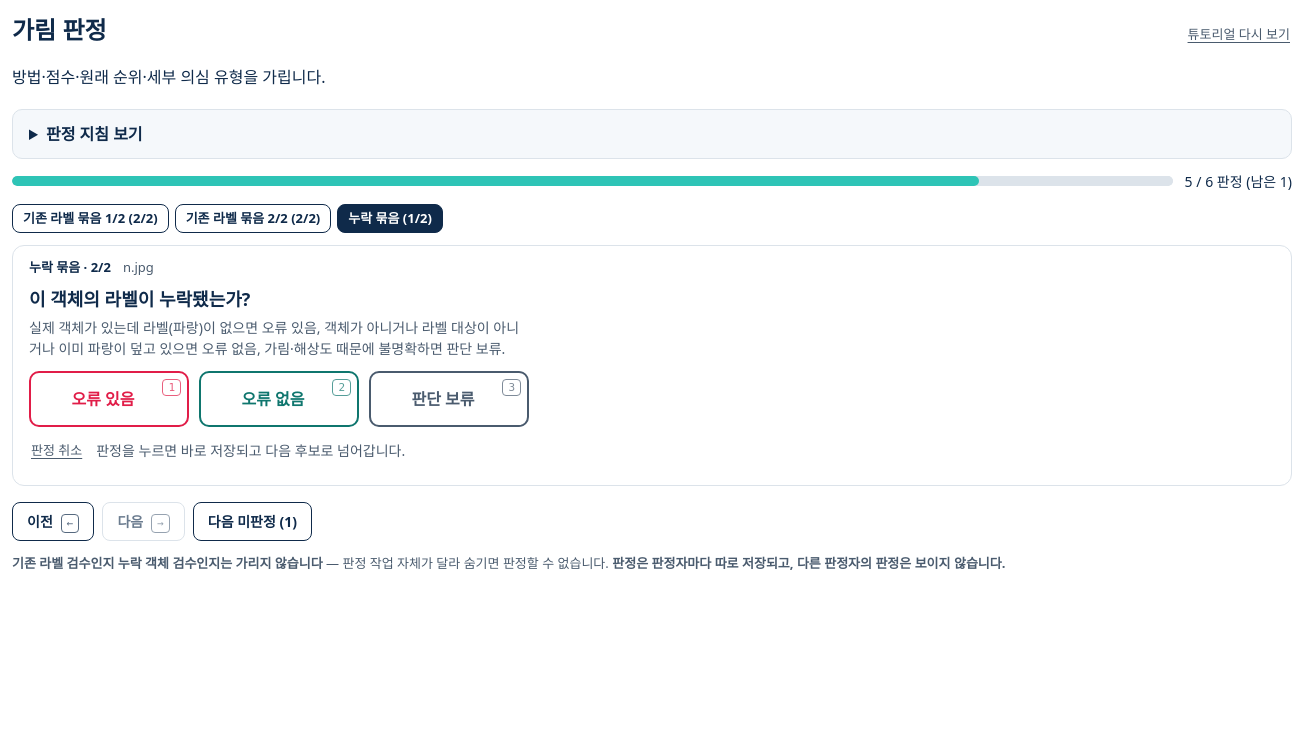
Test: 묶음 경계 › 마지막 묶음을 마치면 기존 완료 화면이 뜬다
Check: the text "n.jpg" is shown, box [123,258,154,278]
Click the button "오류 없음": (279, 398) [199,370,359,426]
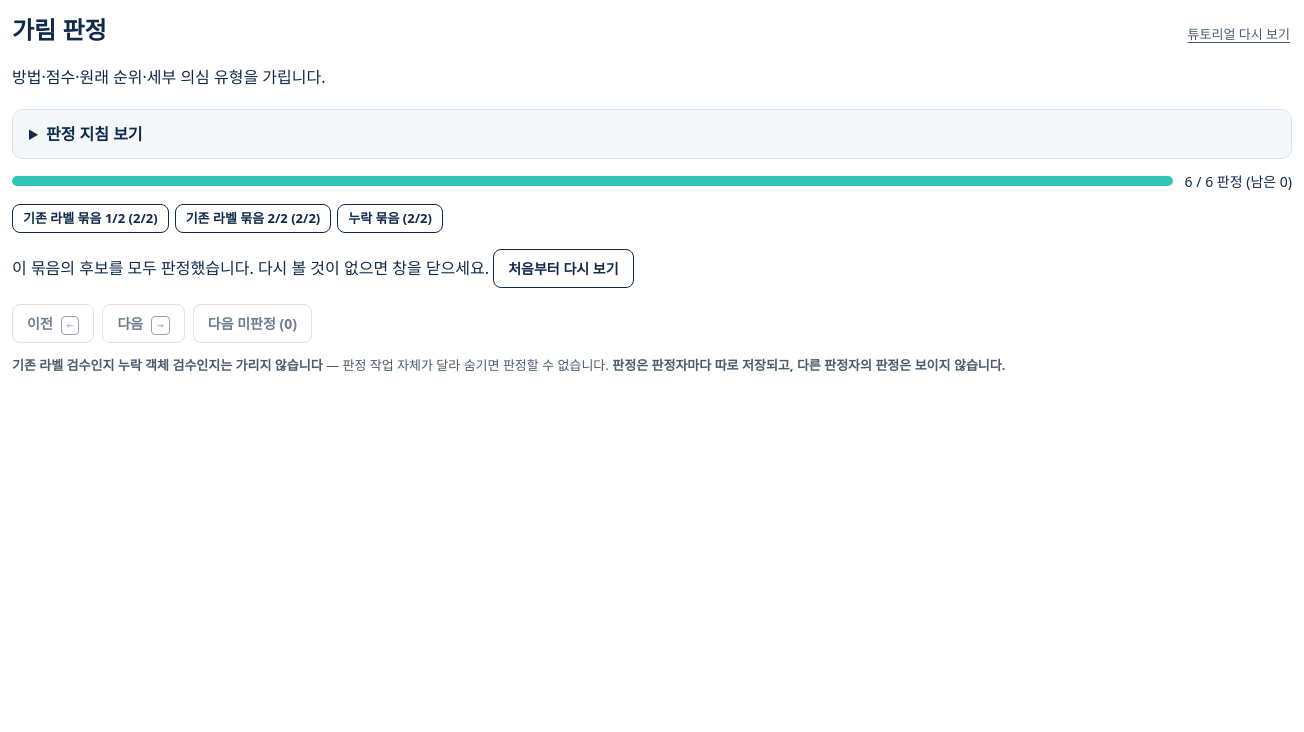
Check: the text "이 묶음의 후보를 모두 판정했습니다. 다시 볼 것이 없으면 창을 닫으세요. 처음부터 다시 보기" is shown, box [12,249,634,288]
